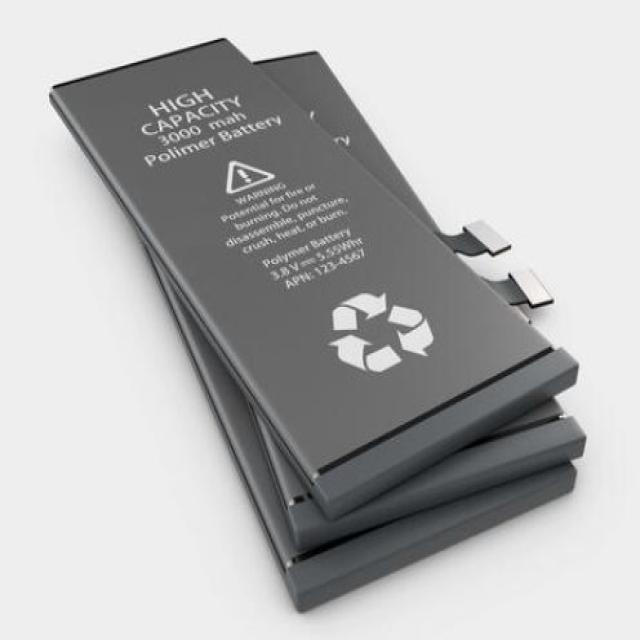electronic: (33, 41, 616, 605)
